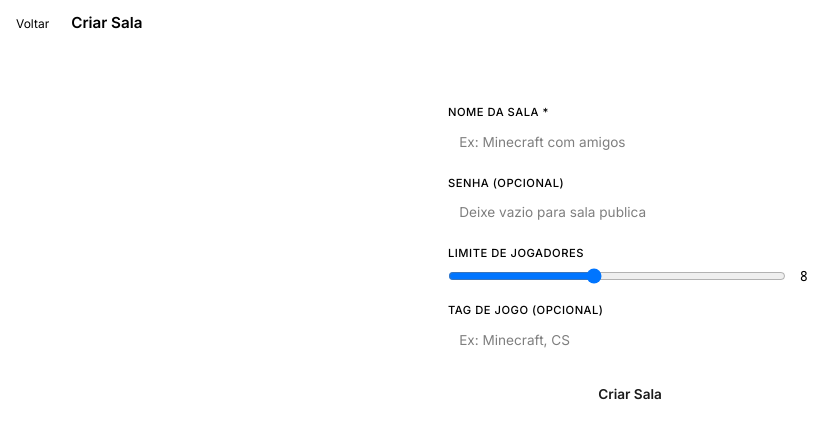
Scenario: CreateRoomPage › shows server error on error response
Type "Test Room" into the field with test id "room-name-input" at x=630, y=142, box [448,125,812,159]
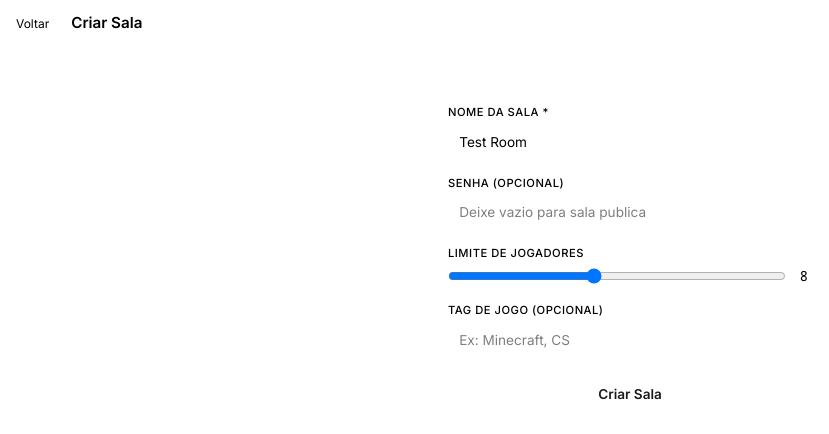
Click the button with test id "submit-btn" at x=630, y=394, box [448,376,812,412]
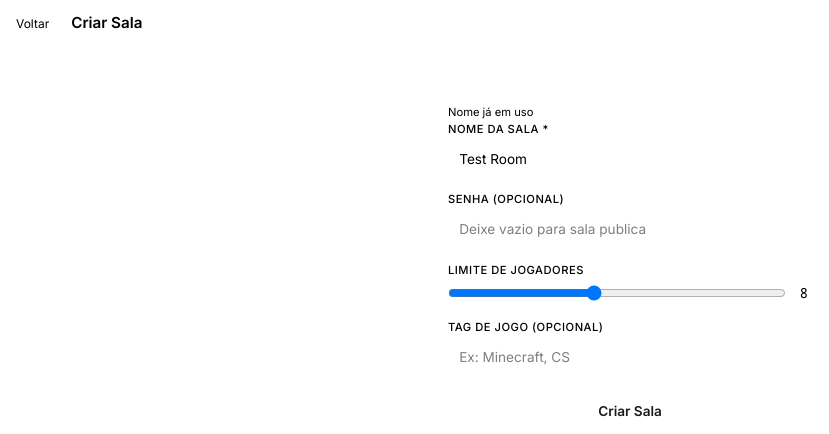
Result: the message reads "Nome já em uso" at [448,105,534,119]
